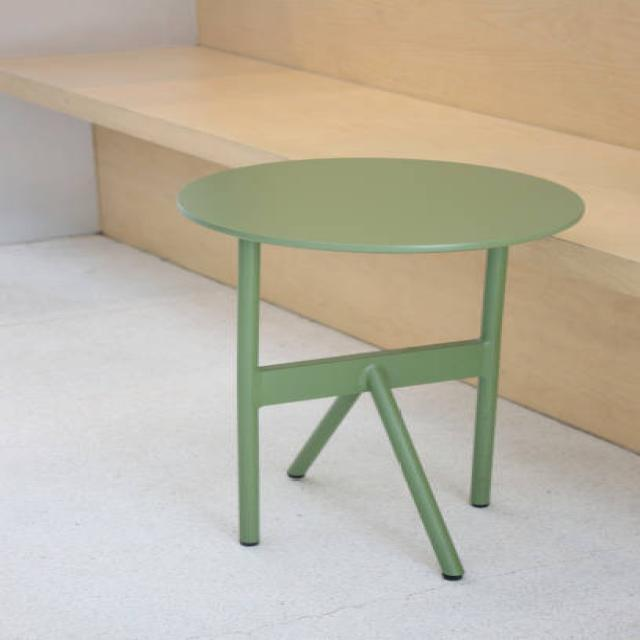table: (174, 154, 585, 580)
